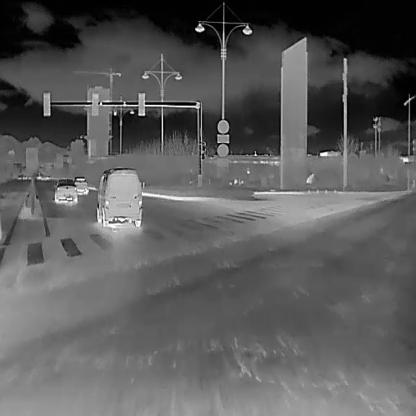car: (96, 167, 142, 227), (52, 178, 76, 204), (73, 176, 88, 194)
